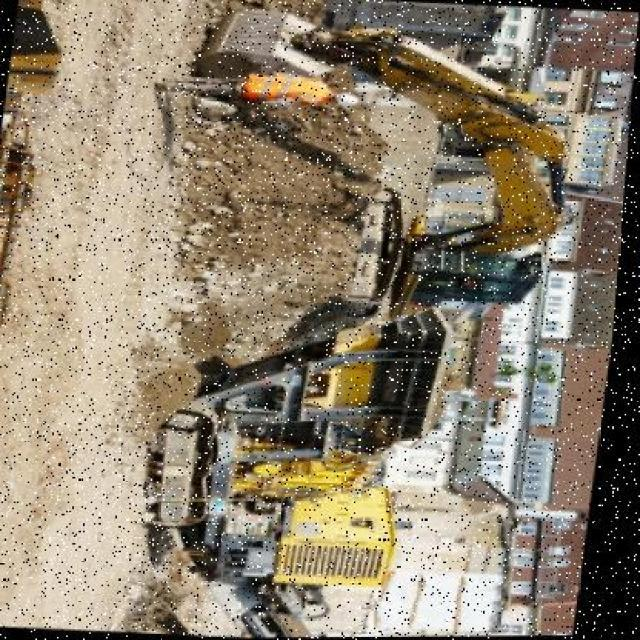helmet: (323, 91, 364, 108)
vest: (240, 74, 332, 104)
